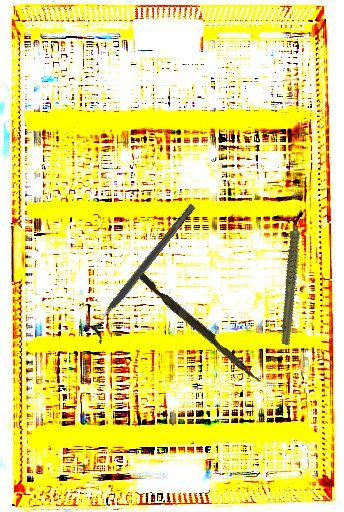Fixation Ring: (80, 197, 204, 345)
Handpiece: (253, 207, 334, 347)
Pusher: (136, 273, 265, 384)
